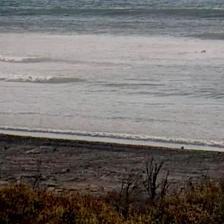surfer: (199, 50, 206, 54)
